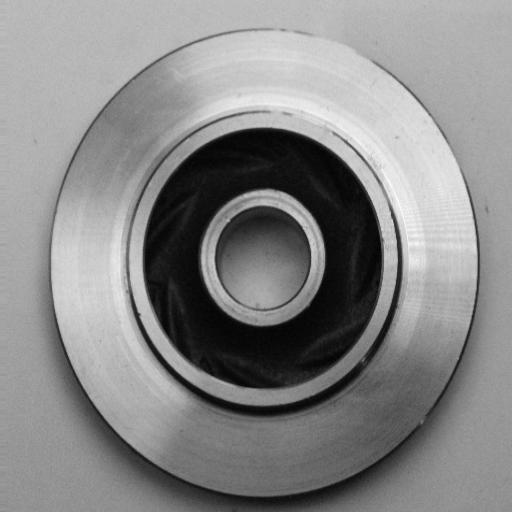scratch: (290, 15, 387, 71), (242, 101, 343, 146)
unpolished_casting: (44, 25, 486, 503)
